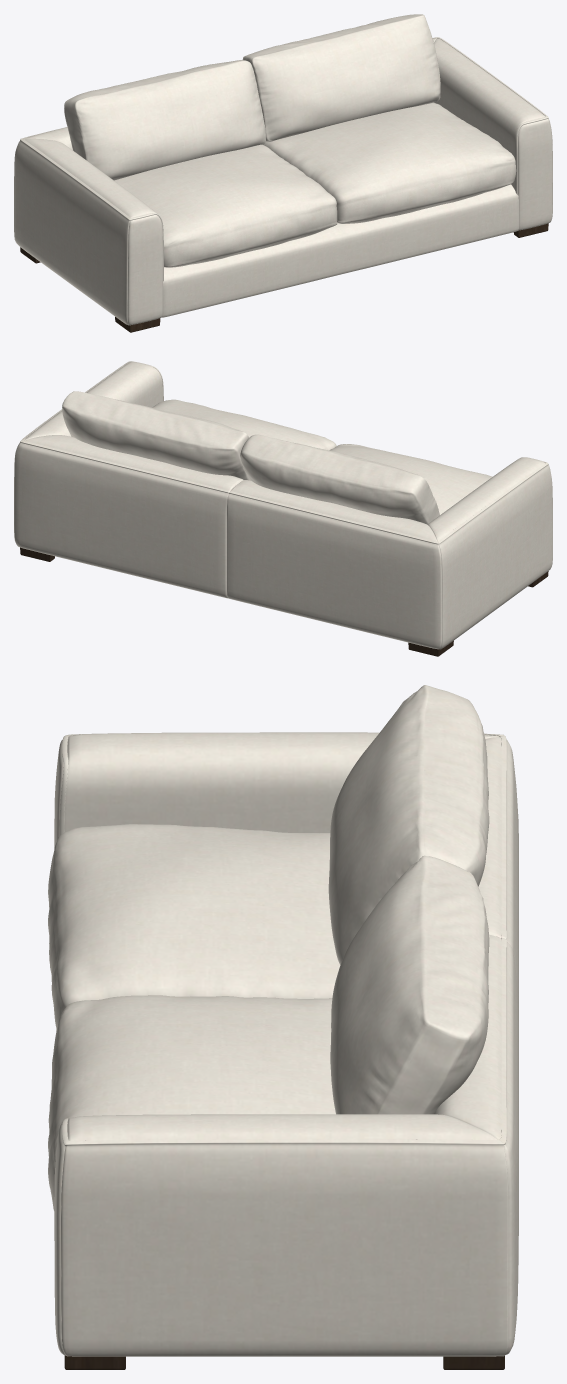
File: B082VLYF5W.glb
The picture shows the model from 3 angles, top to bottom: view 1: azimuth 30°, elevation 25°; view 2: azimuth 150°, elevation 25°; view 3: azimuth 270°, elevation 25°; orthographic projection. The views are drawn at different scales.
Parts seen in each view (by area): view 1: RootNode; view 2: RootNode; view 3: RootNode.
Part boxes in pixels (x1=…): RootNode: x1=14, y1=14, x2=552, y2=332; RootNode: x1=14, y1=361, x2=552, y2=656; RootNode: x1=48, y1=685, x2=518, y2=1369.
Size of the model in its own units: 2.26 by 0.8008 by 1.07.
1 material, 1 textured.
